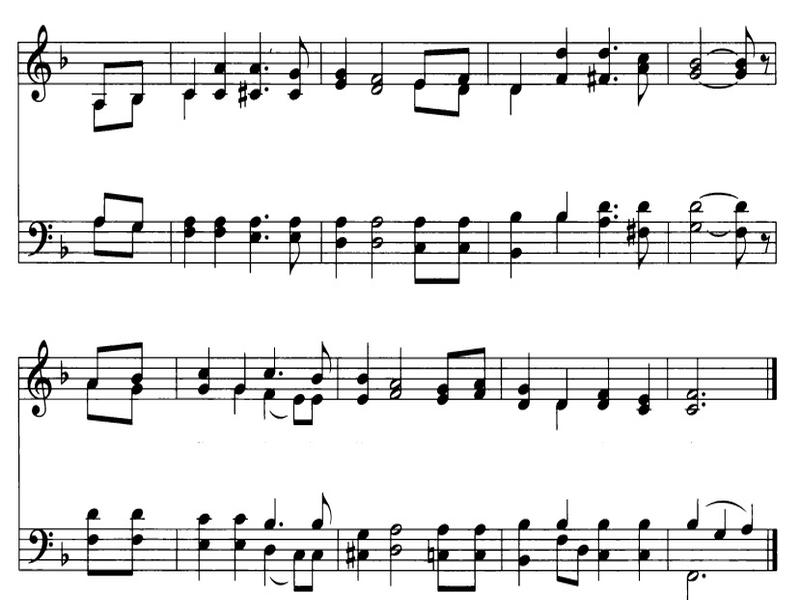B: (386, 512, 411, 594), (682, 201, 708, 265), (387, 343, 412, 406), (365, 213, 387, 284), (367, 39, 393, 99), (685, 347, 702, 428), (687, 21, 707, 82), (681, 567, 698, 597)
Bem: (51, 357, 77, 389), (57, 228, 76, 264), (51, 42, 74, 71), (58, 544, 73, 566)
C: (121, 490, 164, 581), (620, 45, 669, 109), (401, 213, 437, 294), (449, 210, 477, 294), (286, 30, 315, 104), (83, 506, 111, 582), (426, 345, 457, 411), (281, 212, 309, 281), (464, 519, 489, 596), (87, 50, 118, 111), (434, 522, 455, 595), (84, 335, 111, 391), (468, 341, 492, 404), (119, 386, 153, 430), (309, 337, 340, 384), (732, 26, 758, 81), (563, 544, 591, 592), (543, 533, 571, 580), (306, 544, 331, 595), (83, 377, 107, 429), (127, 182, 151, 233), (311, 484, 336, 532), (447, 84, 476, 125), (121, 92, 147, 137), (413, 40, 434, 90), (126, 336, 147, 384), (287, 545, 307, 594), (305, 391, 327, 433), (90, 216, 109, 264), (637, 224, 655, 273), (730, 226, 749, 272), (456, 42, 475, 83), (409, 79, 430, 116), (126, 224, 147, 259), (88, 100, 107, 138), (289, 391, 305, 434), (129, 55, 143, 102), (97, 178, 107, 228)
CF: (27, 213, 56, 274), (27, 525, 55, 577)
CS: (21, 23, 52, 108), (24, 338, 53, 417)
N: (504, 334, 545, 410), (208, 15, 234, 107), (508, 510, 537, 582), (506, 202, 532, 281), (635, 334, 657, 424), (187, 343, 222, 399), (629, 514, 658, 581), (333, 27, 360, 96), (190, 508, 213, 584), (550, 23, 574, 94), (331, 212, 357, 276), (595, 342, 618, 414), (210, 206, 232, 277), (357, 332, 378, 406), (597, 514, 619, 584), (229, 508, 249, 584), (207, 17, 228, 75), (598, 22, 615, 89), (175, 210, 194, 269), (550, 176, 574, 222), (504, 49, 527, 95), (738, 498, 763, 540), (548, 214, 574, 254), (251, 31, 265, 104), (179, 55, 200, 102), (556, 363, 577, 408), (357, 517, 372, 580), (258, 538, 277, 587), (230, 348, 249, 392), (248, 214, 261, 276), (710, 512, 735, 544), (595, 203, 610, 256), (682, 495, 705, 528), (264, 485, 280, 529), (502, 246, 526, 274), (261, 341, 279, 378), (551, 399, 571, 429), (509, 80, 527, 112), (230, 385, 246, 420), (555, 500, 572, 531), (261, 386, 275, 423), (181, 88, 197, 120), (215, 77, 230, 103), (510, 210, 519, 240)
P: (258, 212, 273, 225), (697, 399, 711, 410), (699, 570, 710, 582), (260, 233, 273, 243), (262, 84, 272, 96), (699, 389, 710, 398), (614, 44, 623, 54), (611, 76, 620, 84), (262, 64, 269, 71)
SN: (753, 229, 772, 260), (758, 51, 773, 74)
SOS: (338, 535, 360, 573), (620, 219, 637, 248), (237, 81, 251, 109)
